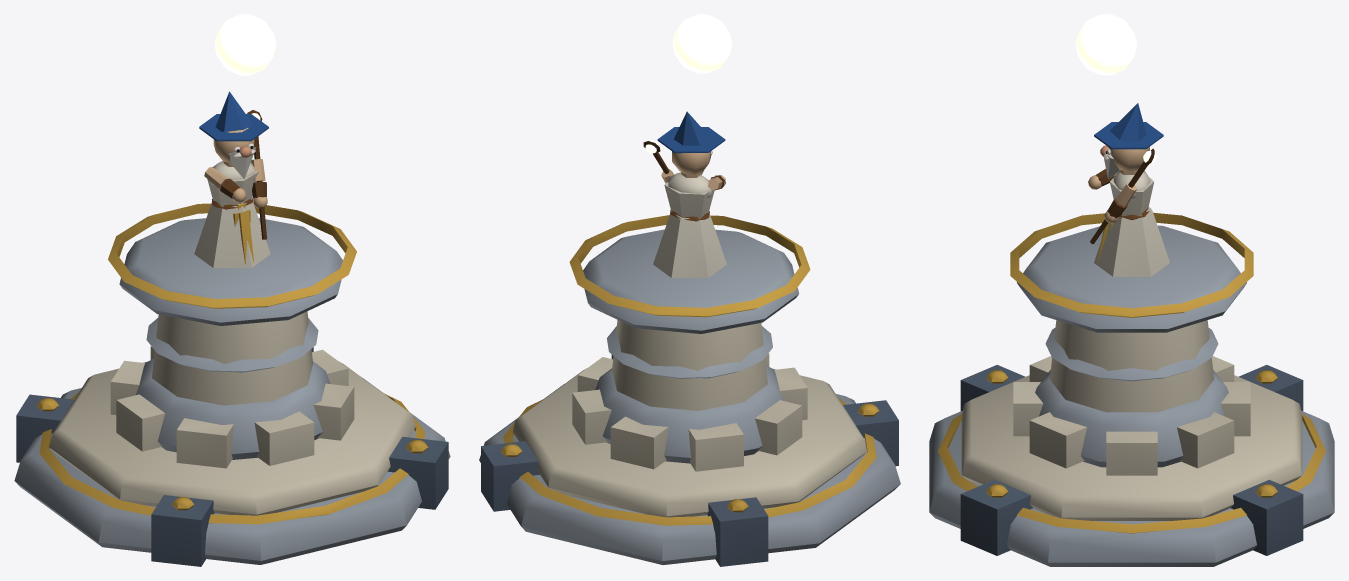
File: alliance_5.glb
The picture shows the model from 3 angles, left to right: view 1: azimuth 30°, elevation 25°; view 2: azimuth 150°, elevation 25°; view 3: azimuth 270°, elevation 25°; orthographic projection. The views are drawn at different scales.
Parts seen in each view (by area): view 1: alliance_5_peint, Buste_peint, OrbeMagique, Crane_peint, BrasG_peint, BrasD_peint; view 2: alliance_5_peint, Buste_peint, OrbeMagique, Crane_peint; view 3: alliance_5_peint, Buste_peint, OrbeMagique, Crane_peint, BrasD_peint.
Boxes of the visible parts, x1=… form: alliance_5_peint: x1=14, y1=203, x2=450, y2=566; Buste_peint: x1=194, y1=161, x2=270, y2=267; OrbeMagique: x1=214, y1=14, x2=276, y2=75; Crane_peint: x1=199, y1=91, x2=268, y2=179; BrasG_peint: x1=204, y1=167, x2=246, y2=202; BrasD_peint: x1=251, y1=159, x2=267, y2=208; alliance_5_peint: x1=479, y1=215, x2=900, y2=566; Buste_peint: x1=653, y1=172, x2=726, y2=277; OrbeMagique: x1=672, y1=14, x2=732, y2=73; Crane_peint: x1=657, y1=111, x2=725, y2=174; alliance_5_peint: x1=929, y1=212, x2=1334, y2=566; Buste_peint: x1=1094, y1=171, x2=1169, y2=276; OrbeMagique: x1=1075, y1=14, x2=1136, y2=75; Crane_peint: x1=1094, y1=103, x2=1163, y2=179; BrasD_peint: x1=1104, y1=182, x2=1137, y2=223.
Size of the model in its own units: 0.7869 by 1 by 0.7869.
